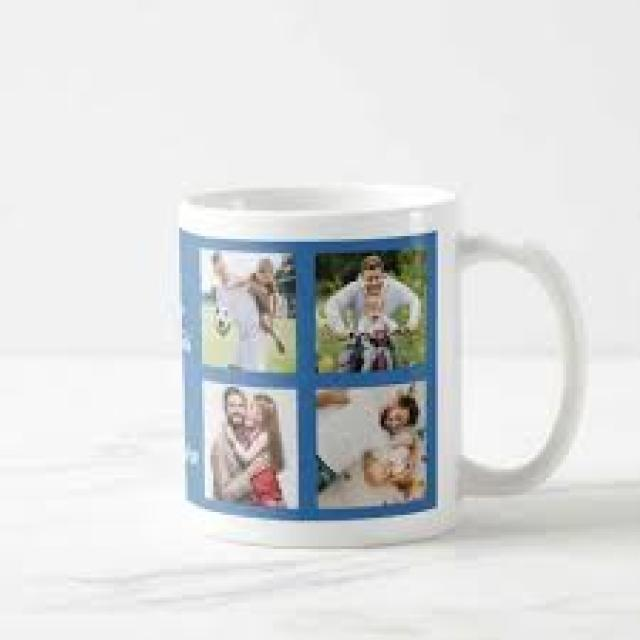taza: (176, 181, 590, 548)
